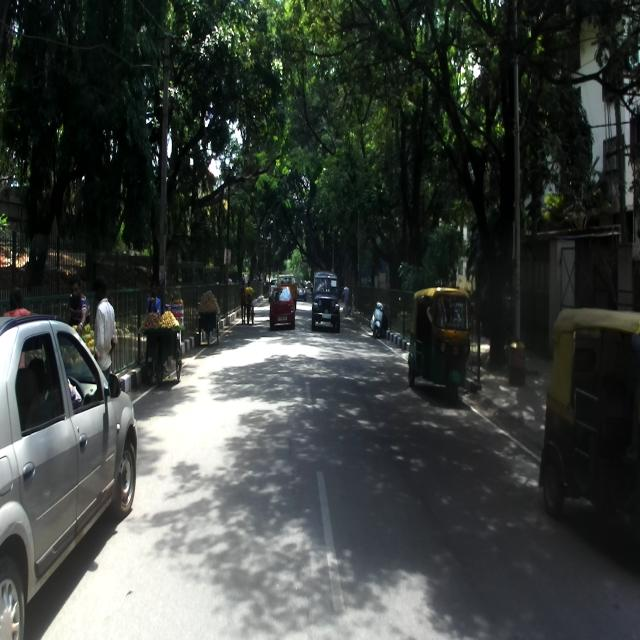auto ahead at: (545, 301, 640, 545), (409, 285, 471, 398)
car ahead at: (0, 318, 138, 640)
